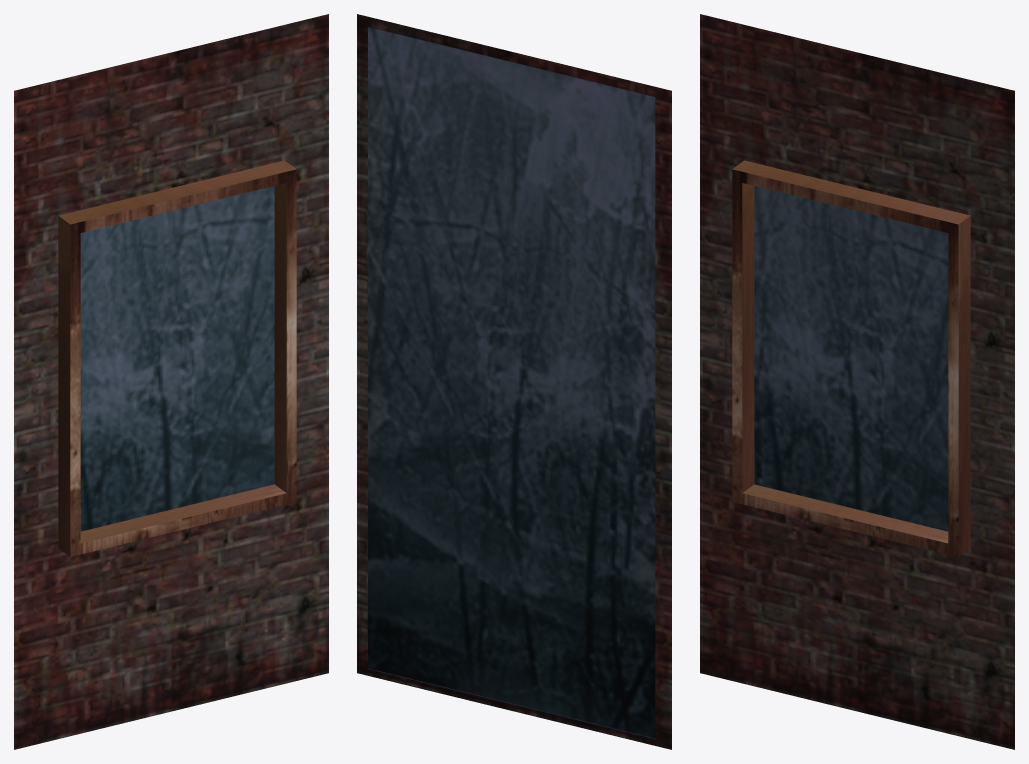
Rendered from wall_brick_window_2.obj.
The picture shows the model from 3 angles, left to right: view 1: azimuth 30°, elevation 25°; view 2: azimuth 150°, elevation 25°; view 3: azimuth 330°, elevation 25°; orthographic projection.
Visible parts, largest first — view 1: Wall_Window_3x1.5_01; view 2: Wall_Window_3x1.5_01; view 3: Wall_Window_3x1.5_01.
Boxes of the visible parts, x1,y1,x2,y2 form: Wall_Window_3x1.5_01: [14, 14, 328, 749]; Wall_Window_3x1.5_01: [357, 14, 671, 749]; Wall_Window_3x1.5_01: [700, 14, 1014, 749].
Size of the model in its own units: 1.5 by 3 by 0.1162.
Materials: 3 (3 with a texture image).
